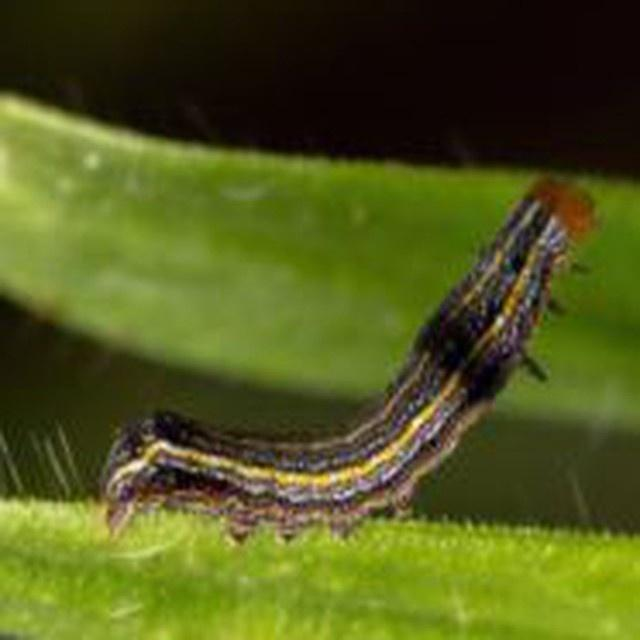gusano_cogollero: (109, 177, 588, 535)
